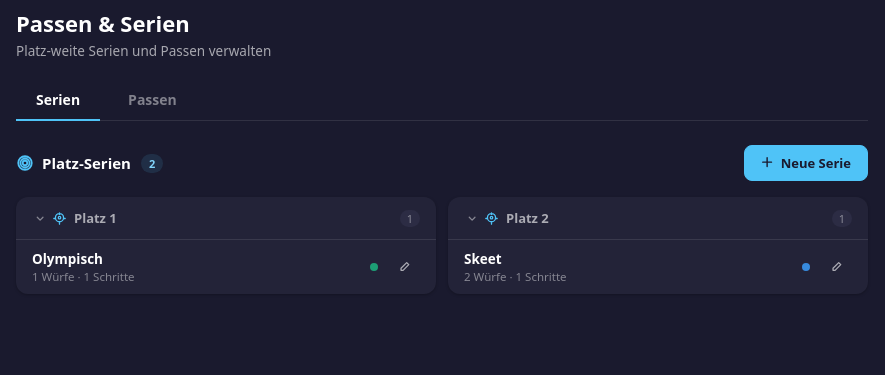
Test: PassenAdminView — Passen tab › shows empty state when no Passen-Vorlagen exist
Click the button with class "tab-btn" showing "Passen": (152, 100) [108,80,197,121]
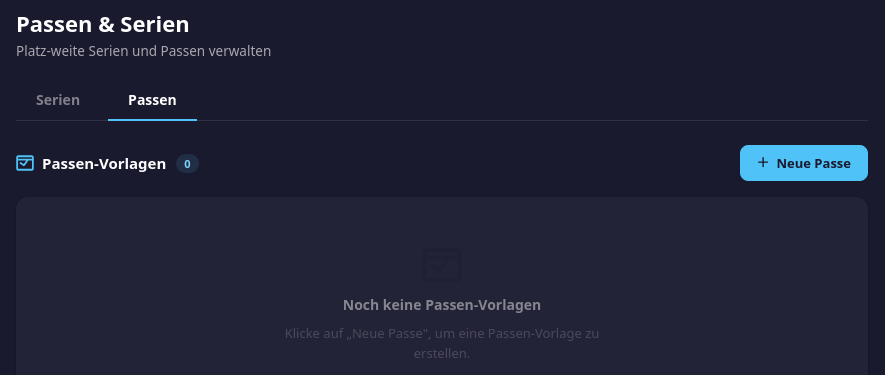
Check: the text "Noch keine Passen-Vorlagen" is shown, box [343,295,541,314]
